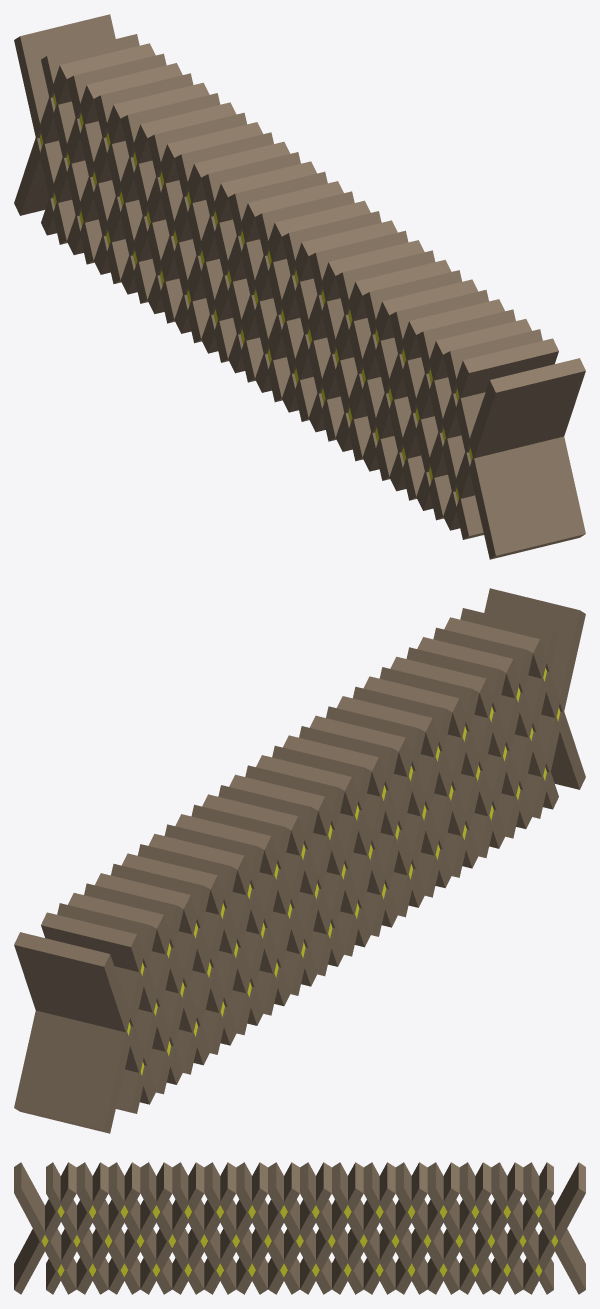
The model's file is InnerWallWindows.fbx.
3 views of the same model, one above another, from view 1: azimuth 30°, elevation 25°; view 2: azimuth 150°, elevation 25°; view 3: azimuth 270°, elevation 25° (orthographic). The views are drawn at different scales.
Visible parts, largest first — view 1: InnerWallWindows; view 2: InnerWallWindows; view 3: InnerWallWindows.
Part boxes in pixels (bbox=[...]): InnerWallWindows: bbox=[14, 14, 585, 559]; InnerWallWindows: bbox=[14, 588, 585, 1133]; InnerWallWindows: bbox=[14, 1162, 585, 1294].
Size of the model in its own units: 9.66 by 89.5 by 18.42.
